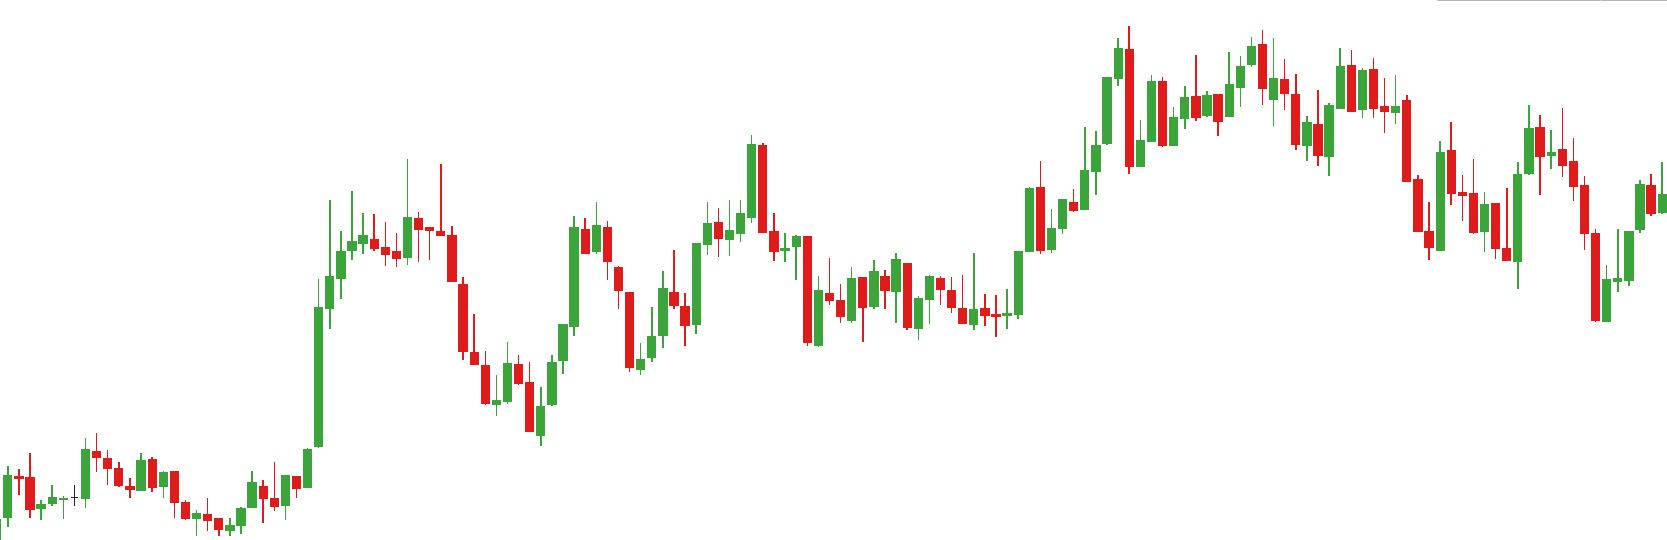buy: (1502, 168, 1614, 333)
sell: (1189, 24, 1272, 116)
